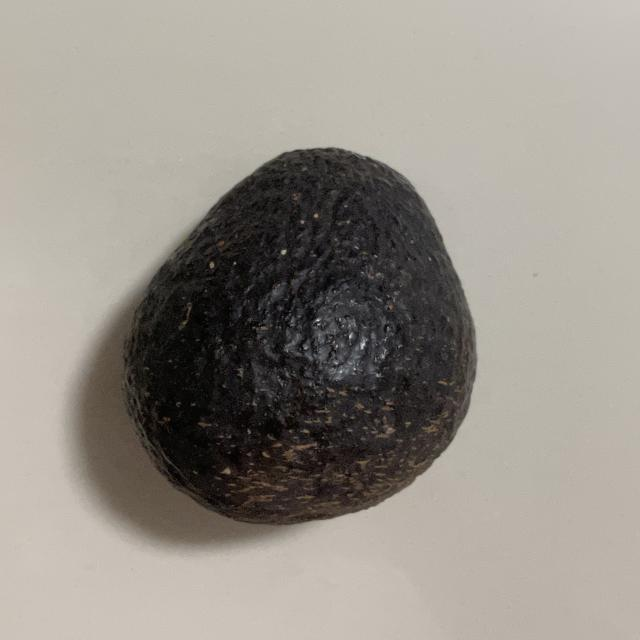Level3: (112, 138, 492, 532)
